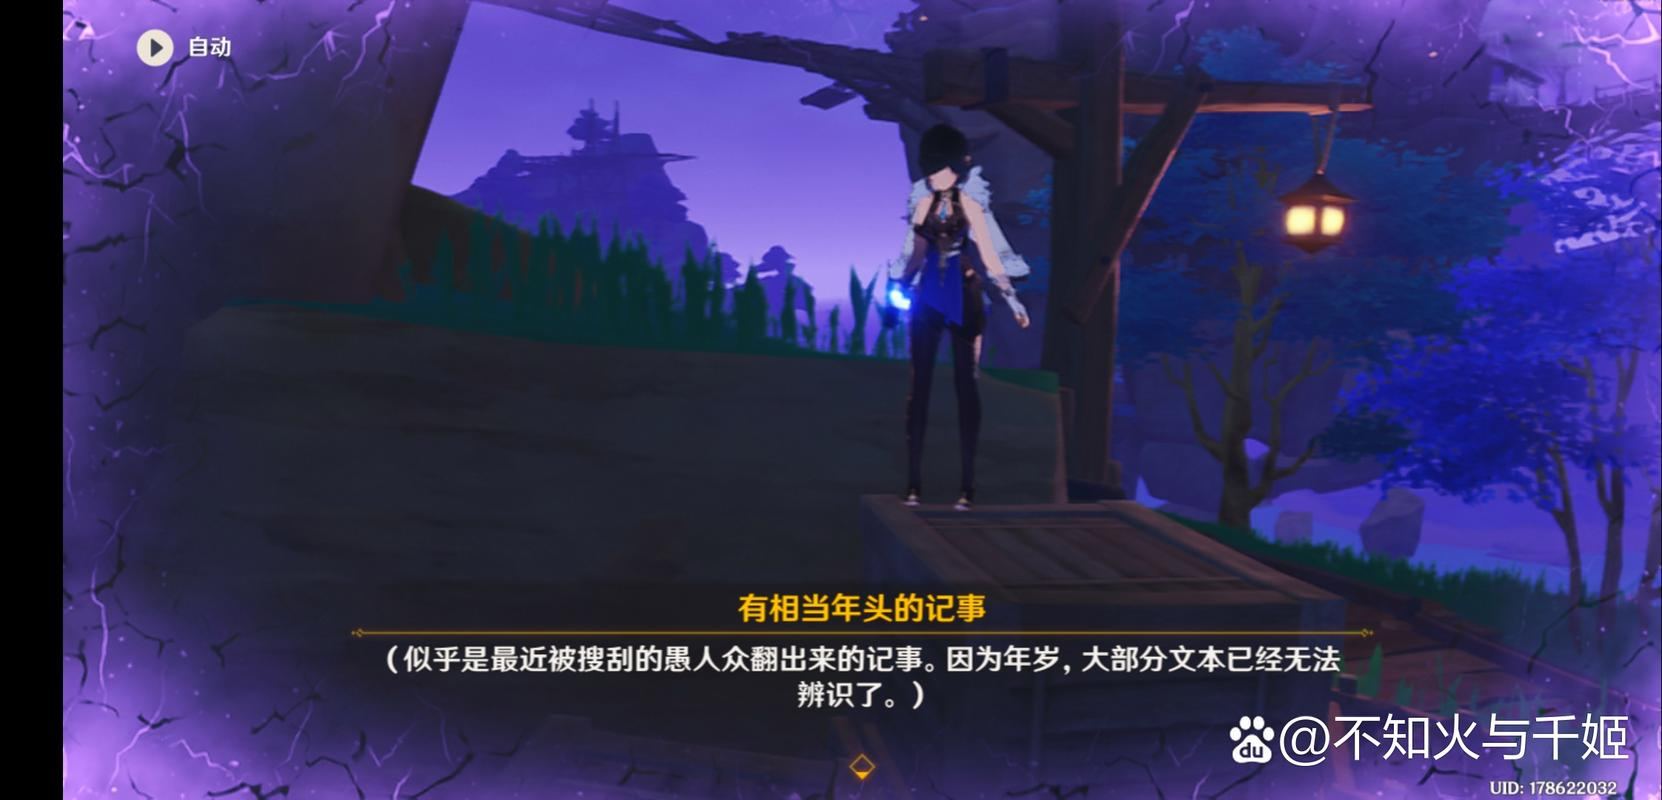夜兰: (886, 119, 1037, 523)
